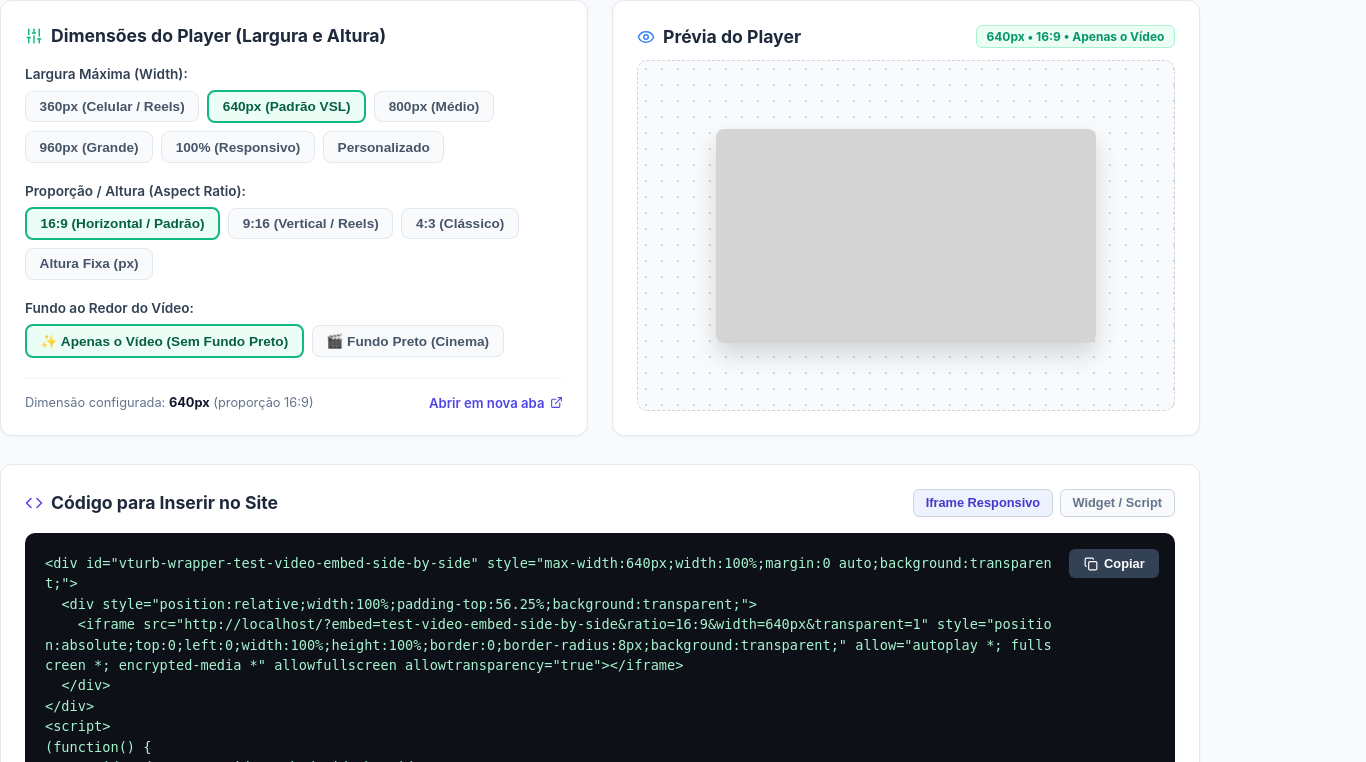
VideoEmbedTab - Layout Lado a Lado (Dimensões e Prévia) › atualiza dinamicamente as dimensões na prévia e no código ao selecionar presets
This screenshot has width=1366, height=762.
# Alterna largura para 800px
What coordinates should you click on to do the following:
click the button with test id "width-preset-800"
I would click on:
 (434, 107)
Its box is 374,91 -> 494,122.
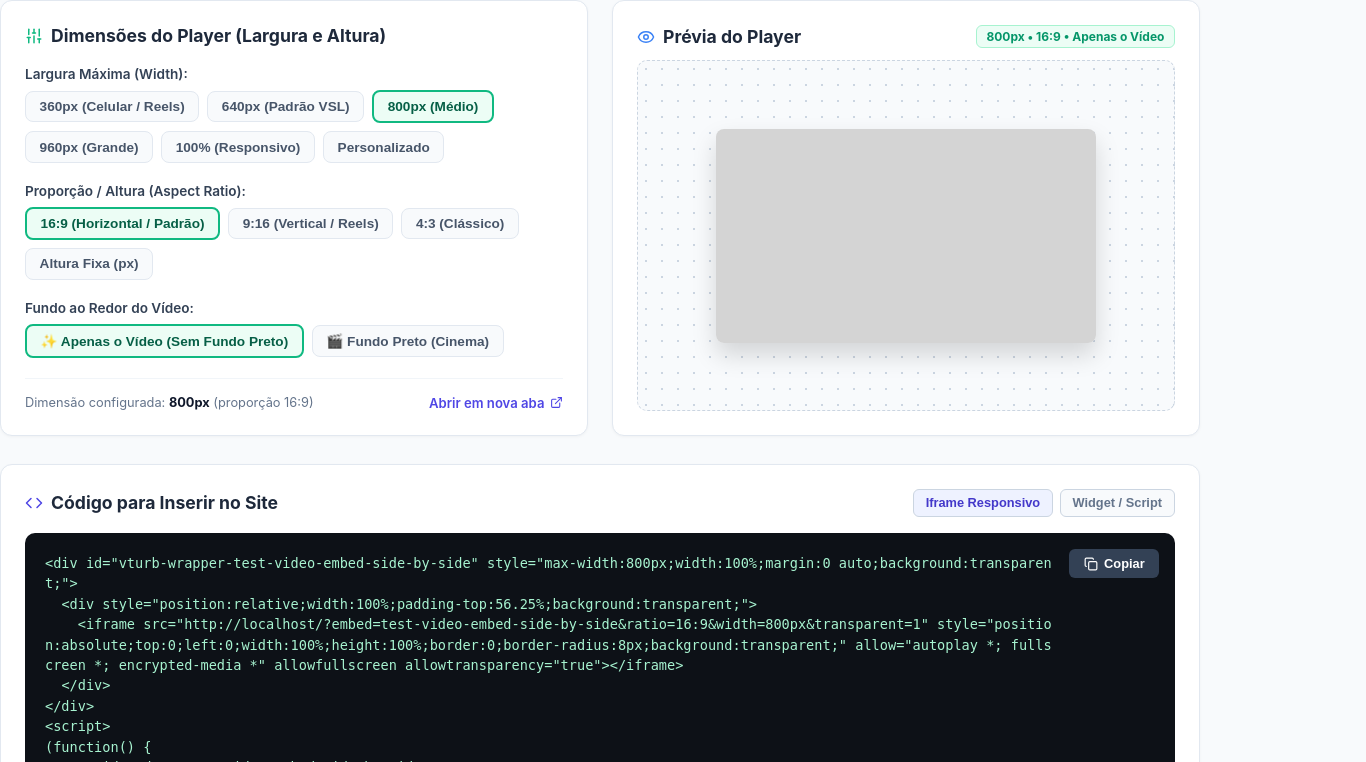
# Alterna proporção para 9:16 vertical
What coordinates should you click on to do the following:
click the button with test id "ratio-preset-9-16"
I would click on:
 (311, 224)
Its box is 228,208 -> 393,239.
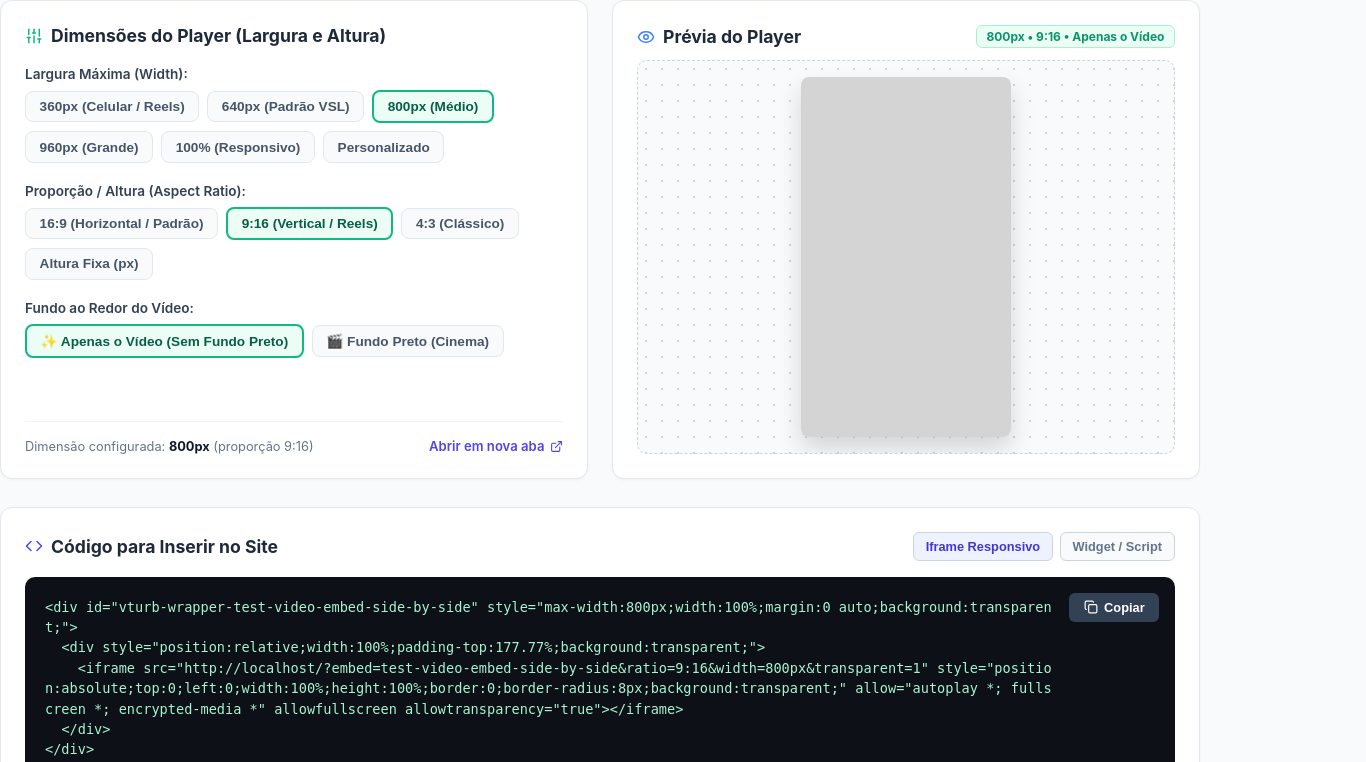
expect the text "800px • 9:16 • Apenas o Vídeo" is shown: met, box 976,25 -> 1175,48
